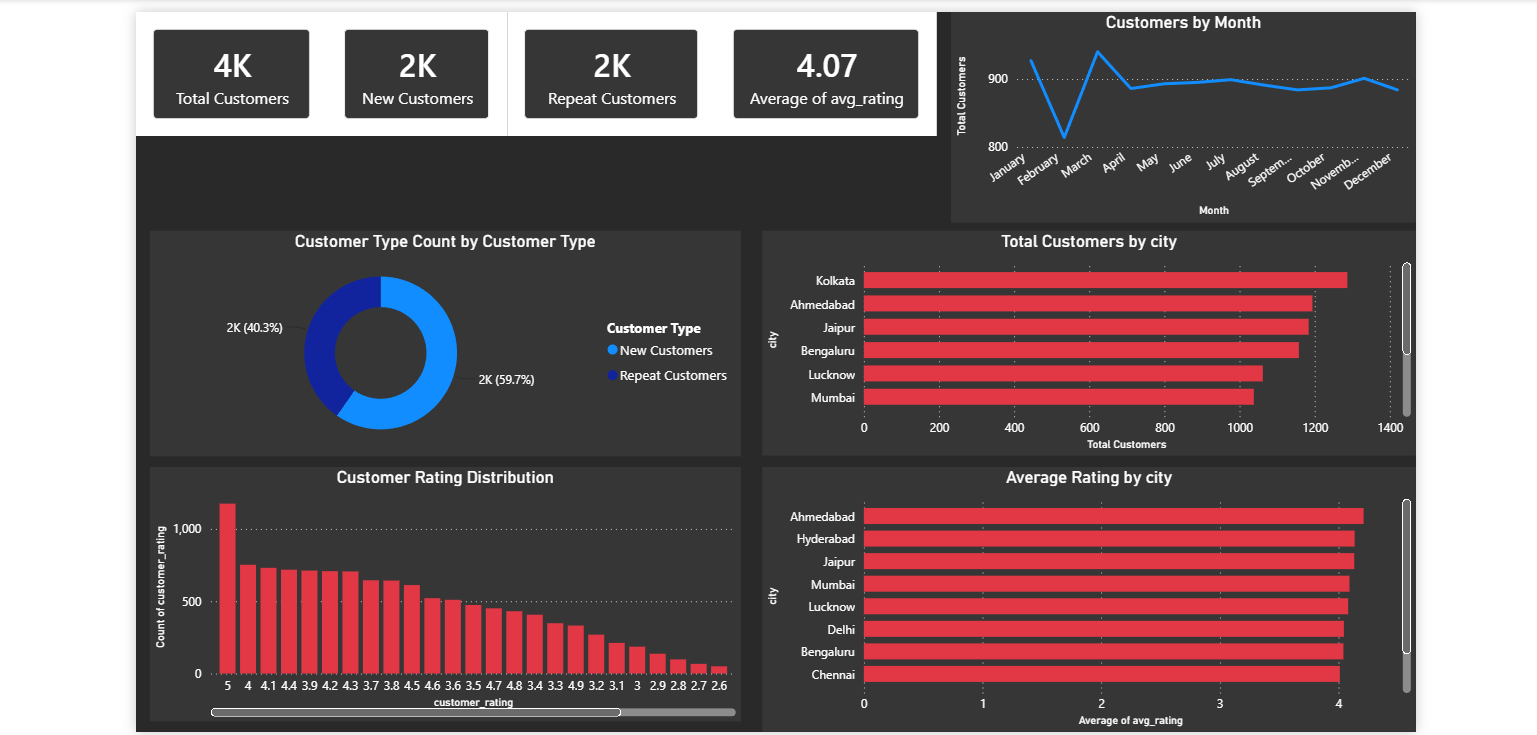

The dashboard page shown, as its layout file describes it:
{"tool":"powerbi","page":{"name":"Customer Analysis","canvas":[1280,720],"ordinal":1},"visuals":[{"type":"cardVisual","fields":{"Data":["Zomato measures.Total Customers"]},"box":[0,0,191.8,124.3],"z":0},{"type":"cardVisual","fields":{"Data":["Zomato measures.New Customers"]},"box":[191.8,0,179.8,124.3],"z":1000},{"type":"cardVisual","fields":{"Data":["Zomato measures.Repeat Customers"]},"box":[371.6,0,208.7,124.3],"z":2000},{"type":"cardVisual","fields":{"Data":["Avg(Orders.avg_rating)"]},"box":[580.3,0,220.8,124.3],"z":3000},{"type":"lineChart","title":"Customers by Month","fields":{"Y":["Zomato measures.Total Customers"],"Category":["Orders.order_date.Variation.Date Hierarchy.Month"]},"box":[815,0,465,210],"z":4000},{"type":"clusteredBarChart","fields":{"Y":["Zomato measures.Total Customers"],"Category":["Orders.city"]},"box":[626.2,218.8,653.8,225],"z":5000},{"type":"clusteredColumnChart","title":"Customer Rating Distribution","fields":{"Y":["CountNonNull(Orders.customer_rating)"],"Category":["Orders.customer_rating"]},"box":[13.3,454.8,591.2,254.6],"z":6000},{"type":"clusteredBarChart","title":"Average Rating by city","fields":{"Category":["Orders.city"],"Y":["Avg(Orders.avg_rating)"]},"box":[626.2,455,653.8,265],"z":7000},{"type":"donutChart","fields":{"Category":["Customer Type.Customer Type"],"Y":["Customer Type.Customer Type Count"]},"box":[13.3,218.4,591.2,225.6],"z":8000}]}

Visuals, with their boxes on the page's 1280x720 design canvas (x1, y1, x2, y2). These are canvas units, not pixel positions in the 1537x735 screenshot, which may show the page scaled, cropped or inside an application window:
cardVisual - Zomato measures.Total Customers: select_region(0, 0, 192, 124)
cardVisual - Zomato measures.New Customers: select_region(192, 0, 372, 124)
cardVisual - Zomato measures.Repeat Customers: select_region(372, 0, 580, 124)
cardVisual - Avg(Orders.avg_rating): select_region(580, 0, 801, 124)
"Customers by Month" lineChart: select_region(815, 0, 1280, 210)
clusteredBarChart - Zomato measures.Total Customers x Orders.city: select_region(626, 219, 1280, 444)
"Customer Rating Distribution" clusteredColumnChart: select_region(13, 455, 604, 709)
"Average Rating by city" clusteredBarChart: select_region(626, 455, 1280, 720)
donutChart - Customer Type.Customer Type x Customer Type.Customer Type Count: select_region(13, 218, 604, 444)
